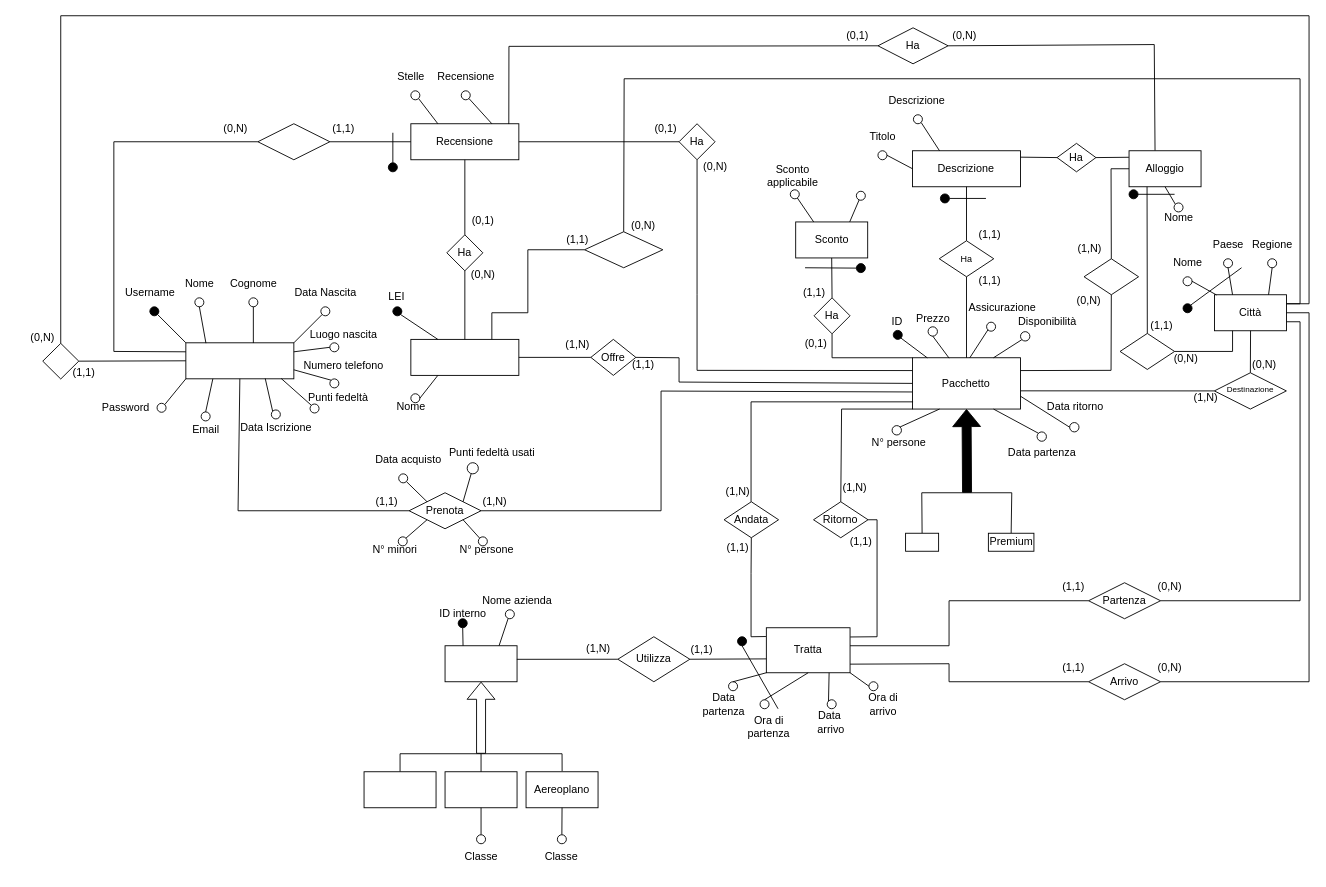
Image size: 1326x887. Some labels were removed from this diagram. The centre of each missing label's shape, as x and y in pixels:
"Agenzia" goes at (x=464, y=356).
"Base" goes at (x=922, y=541).
"Bus" goes at (x=399, y=789).
"Luogo" goes at (x=1147, y=351).
"Mezzo" goes at (x=480, y=663).
"Nato" goes at (x=60, y=360).
"Scrive" goes at (x=293, y=141).
"SedeLegale" goes at (x=623, y=249).
"Soggiorno" goes at (x=1111, y=276).
"Treno" goes at (x=480, y=789).
"Utente" goes at (x=239, y=360).
